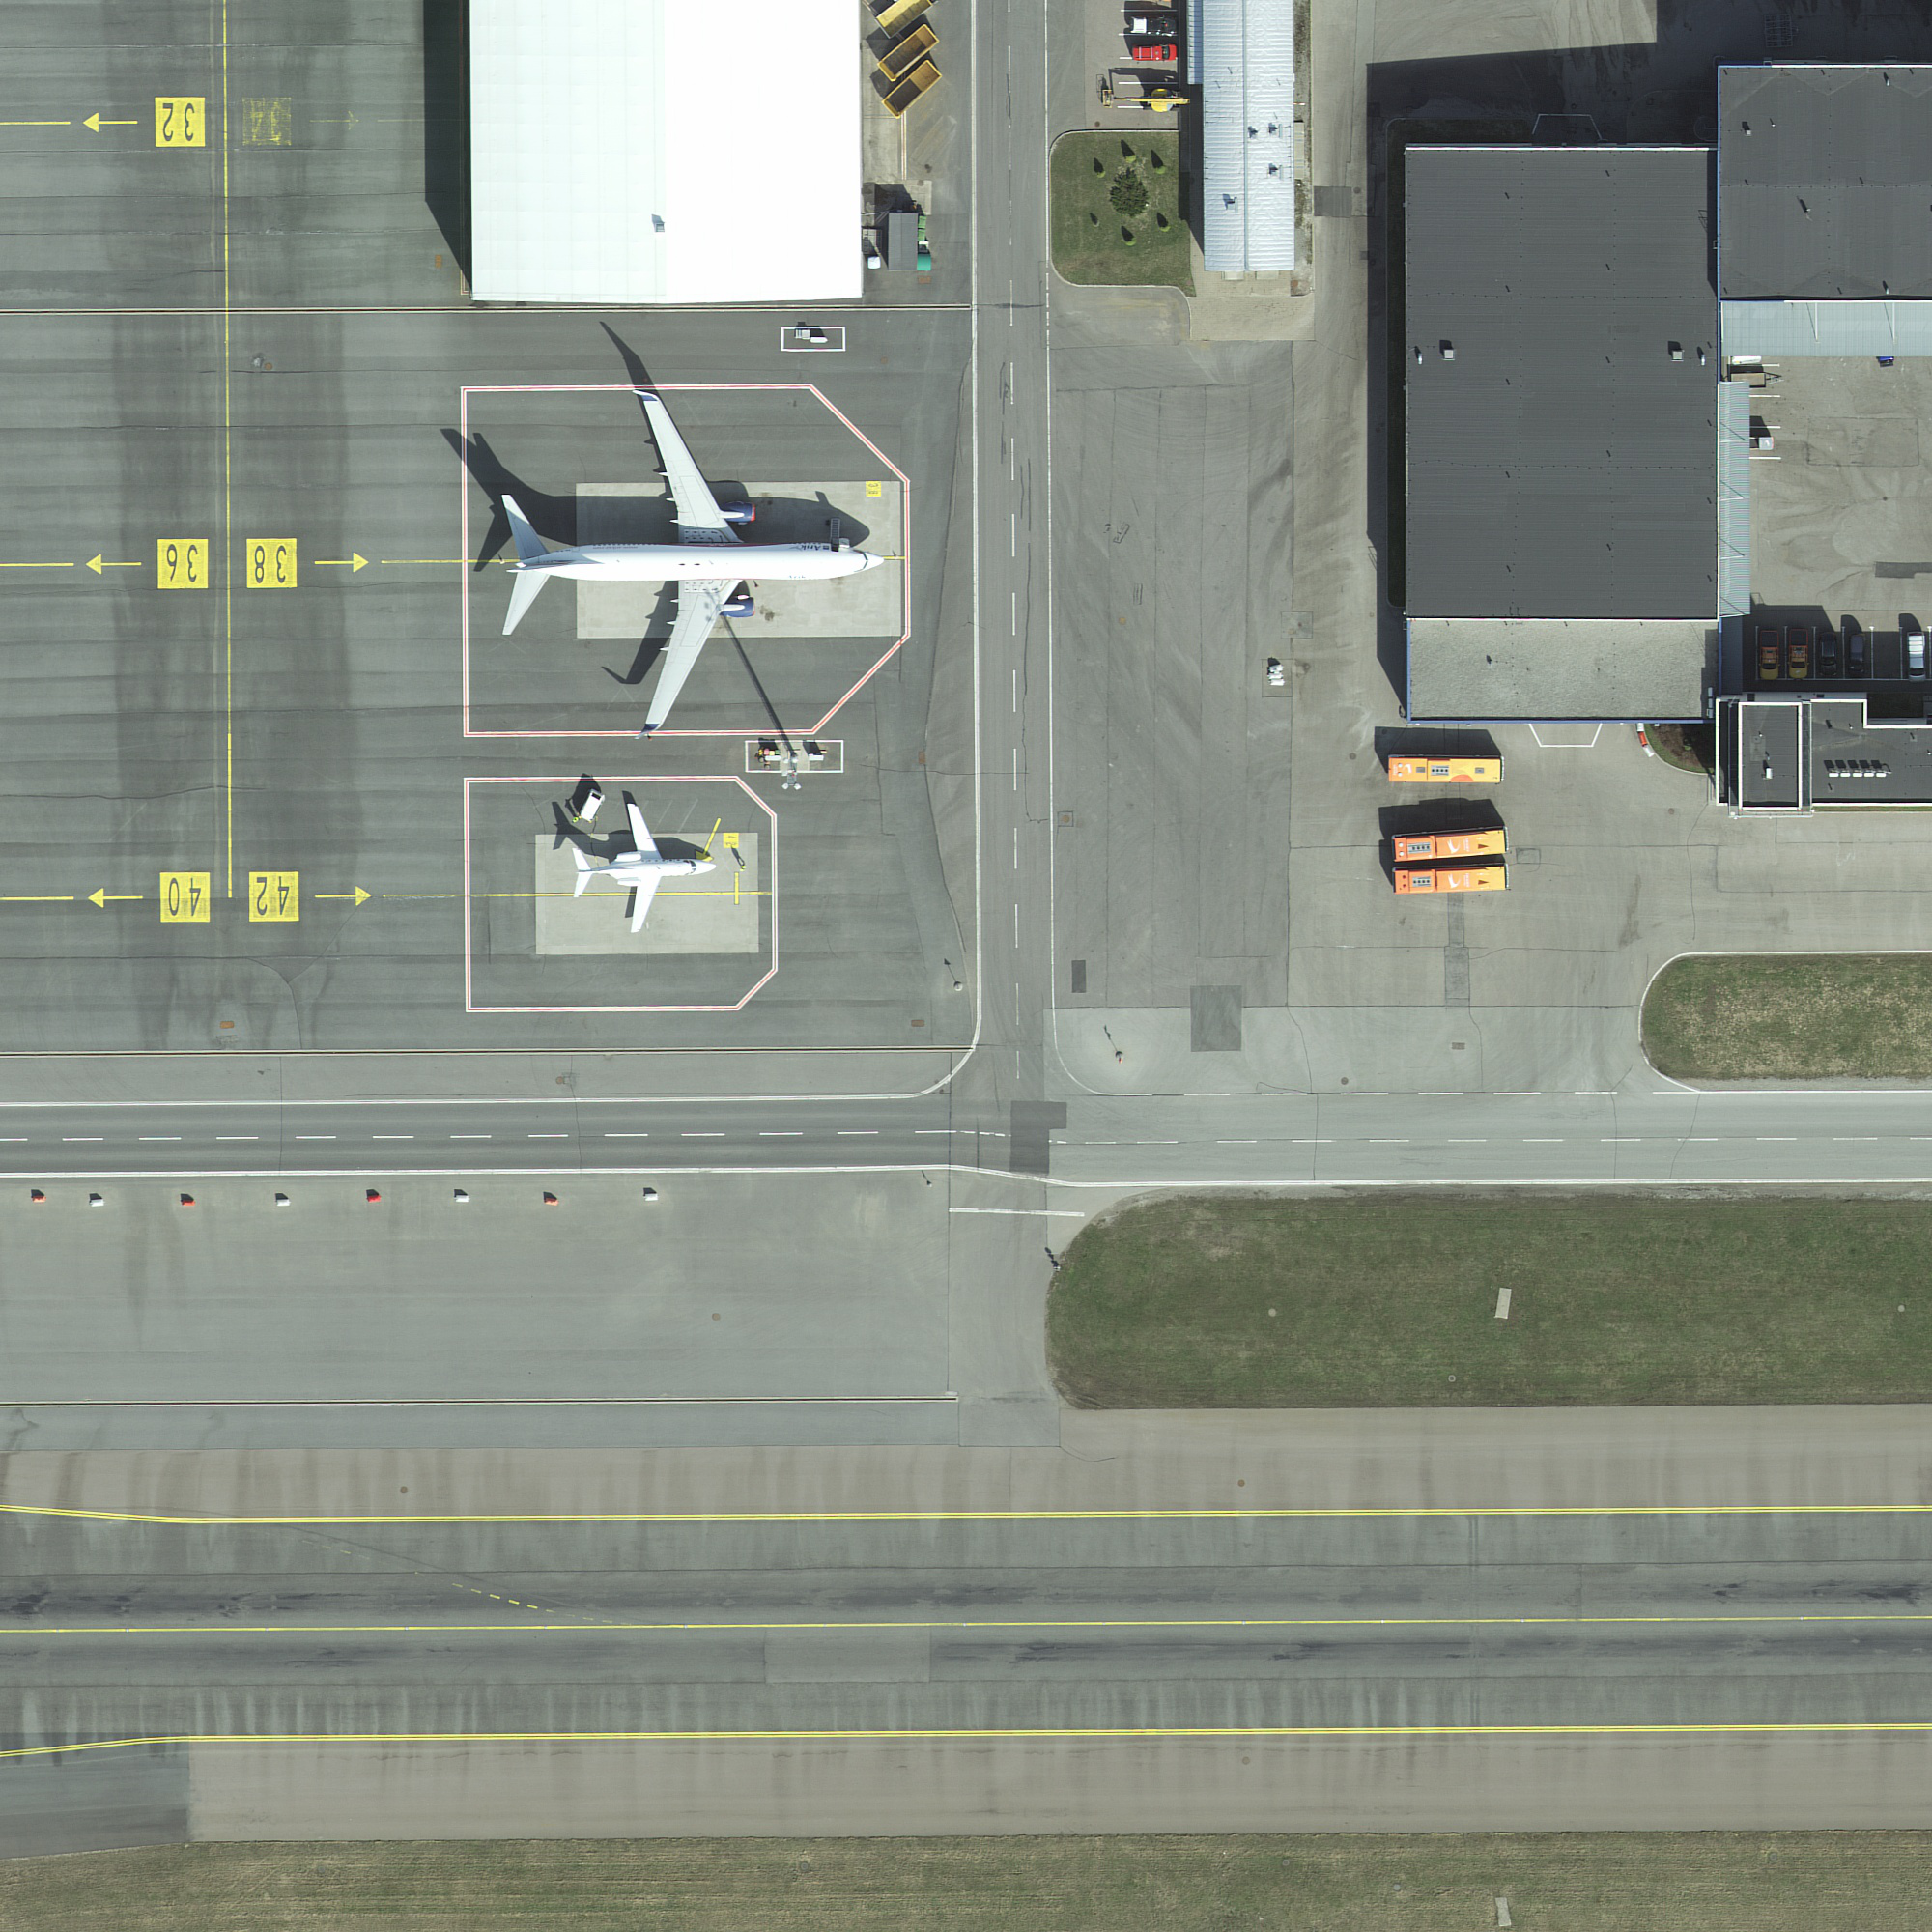Airplane: (499, 389, 885, 738), (571, 803, 720, 932)
